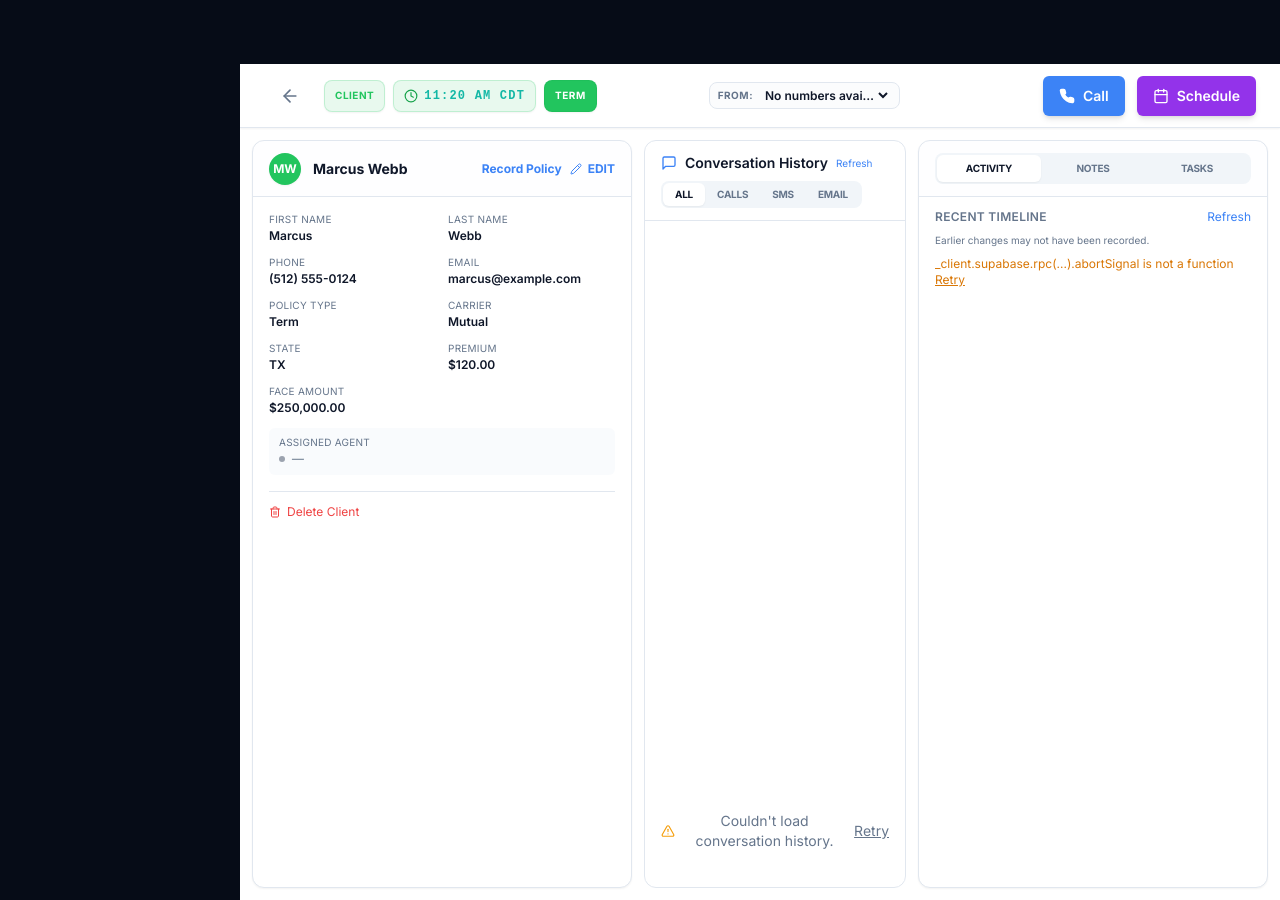
D3b — the server-returned value wins over the submitted payload › a value canonicalised on write is what the view shows and what the NEXT payload carries
The image size is (1280, 900).
Expected: the button "Call" is shown, [1043, 76, 1125, 116]
Click the button "EDIT". click: click(592, 168)
box: [570, 160, 615, 176]
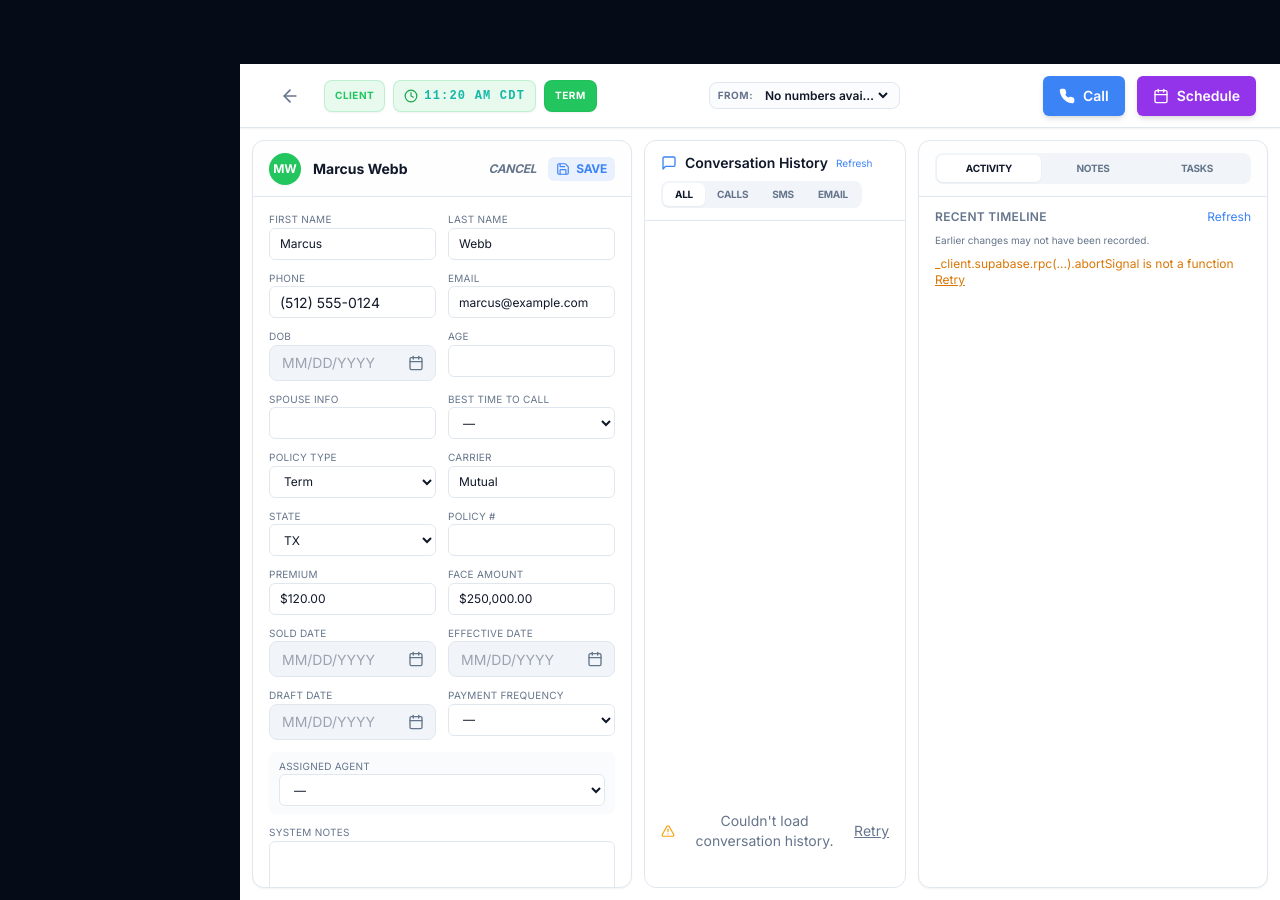
Replace the text in the field showing "Marcus" with "marcus". click: (352, 244)
box: [269, 228, 436, 260]
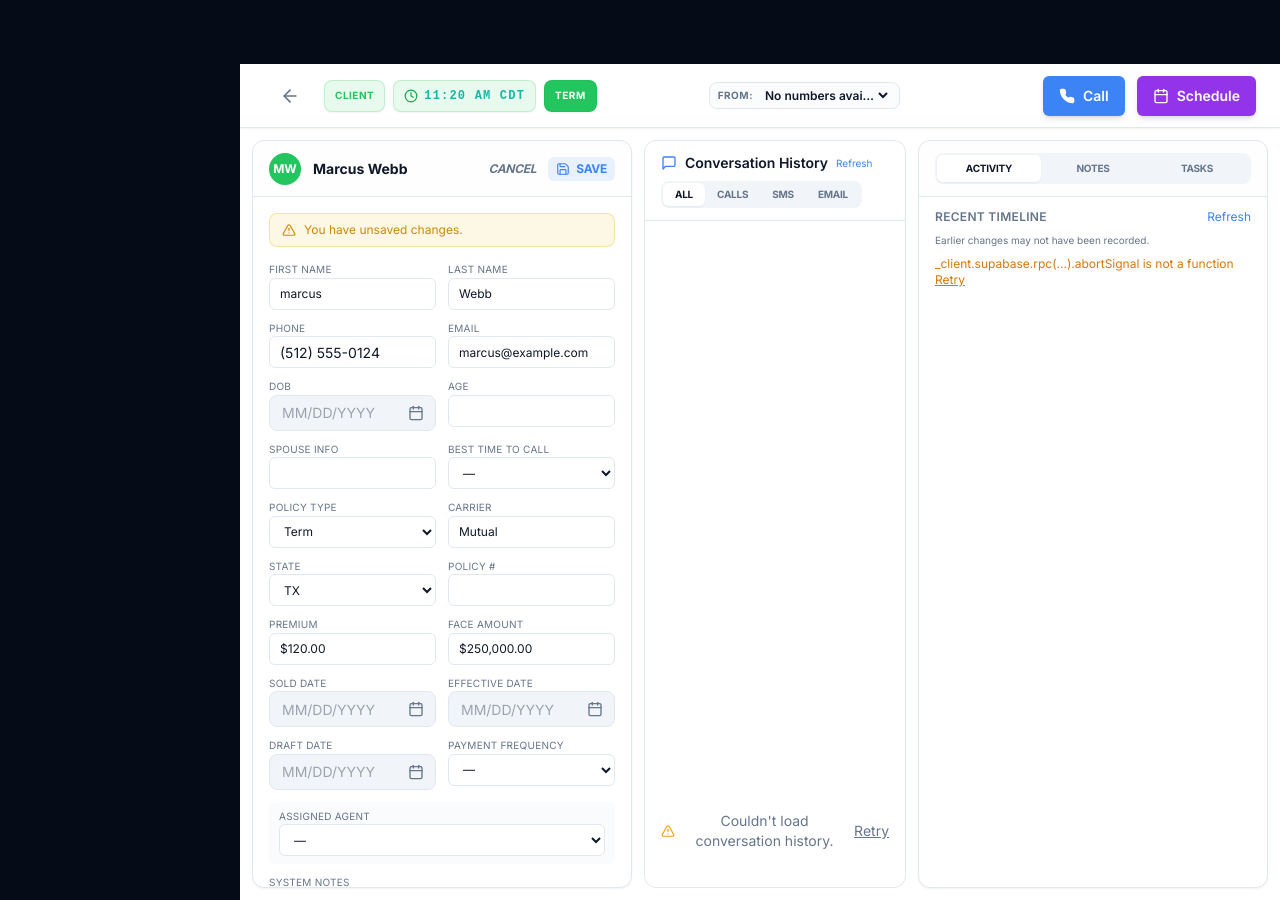
Click the button "SAVE". click: click(582, 168)
box: [548, 156, 615, 180]
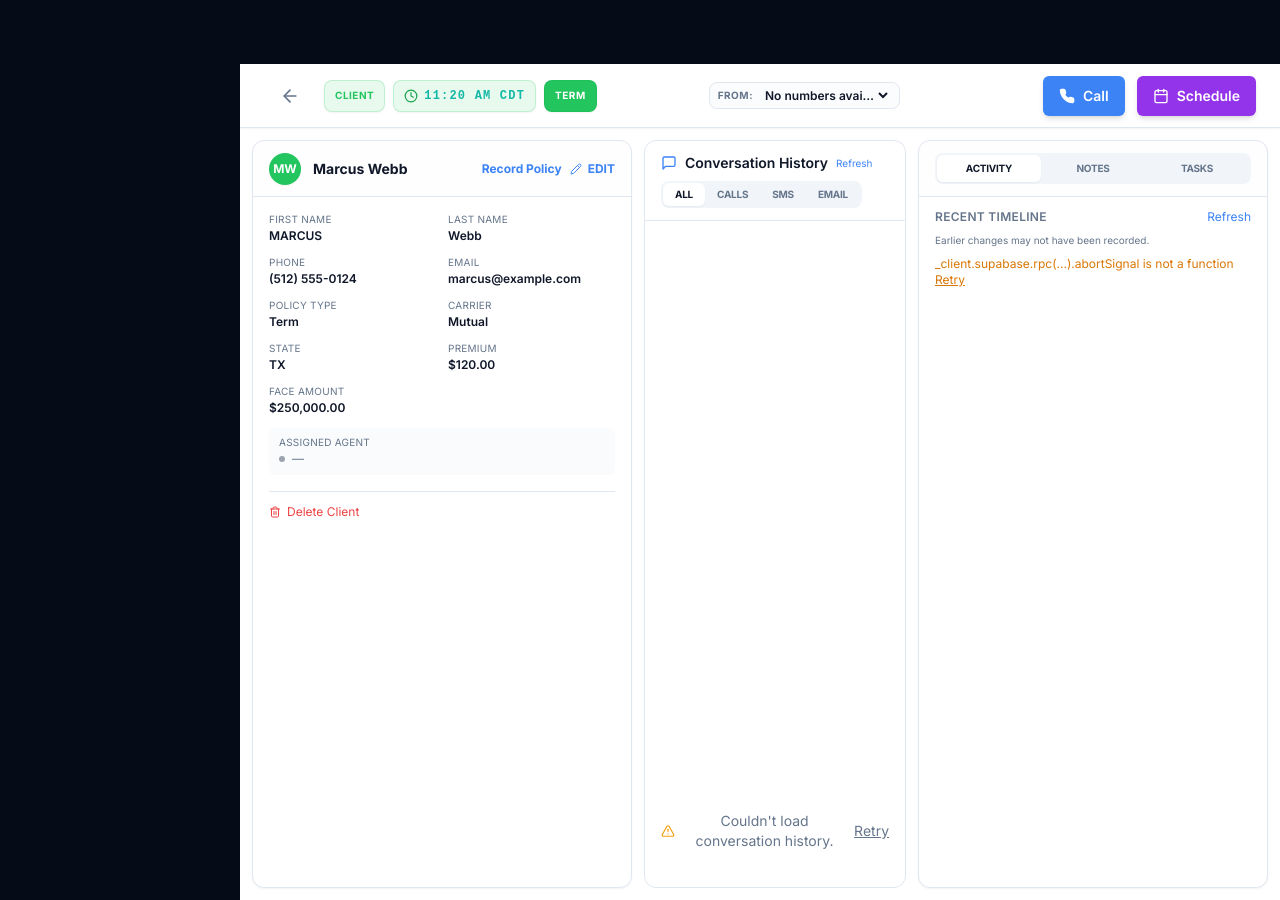
Now the text "MARCUS" is shown, box [269, 228, 322, 244]
Click the button "EDIT". click: click(592, 168)
box: [570, 160, 615, 176]
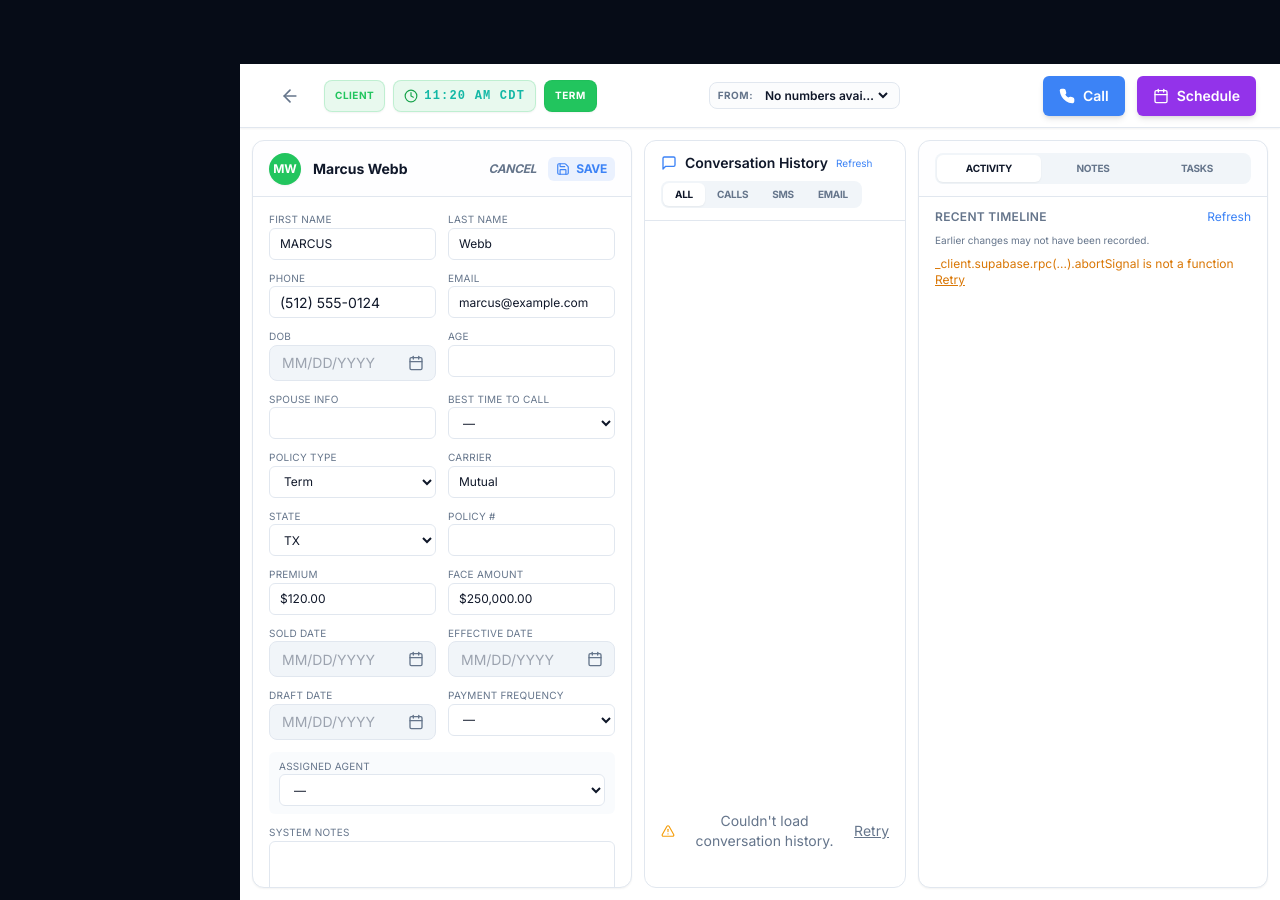
Replace the text in the field showing "marcus@example.com" with "marcus2@example.com". click: (532, 302)
box: [448, 286, 615, 318]
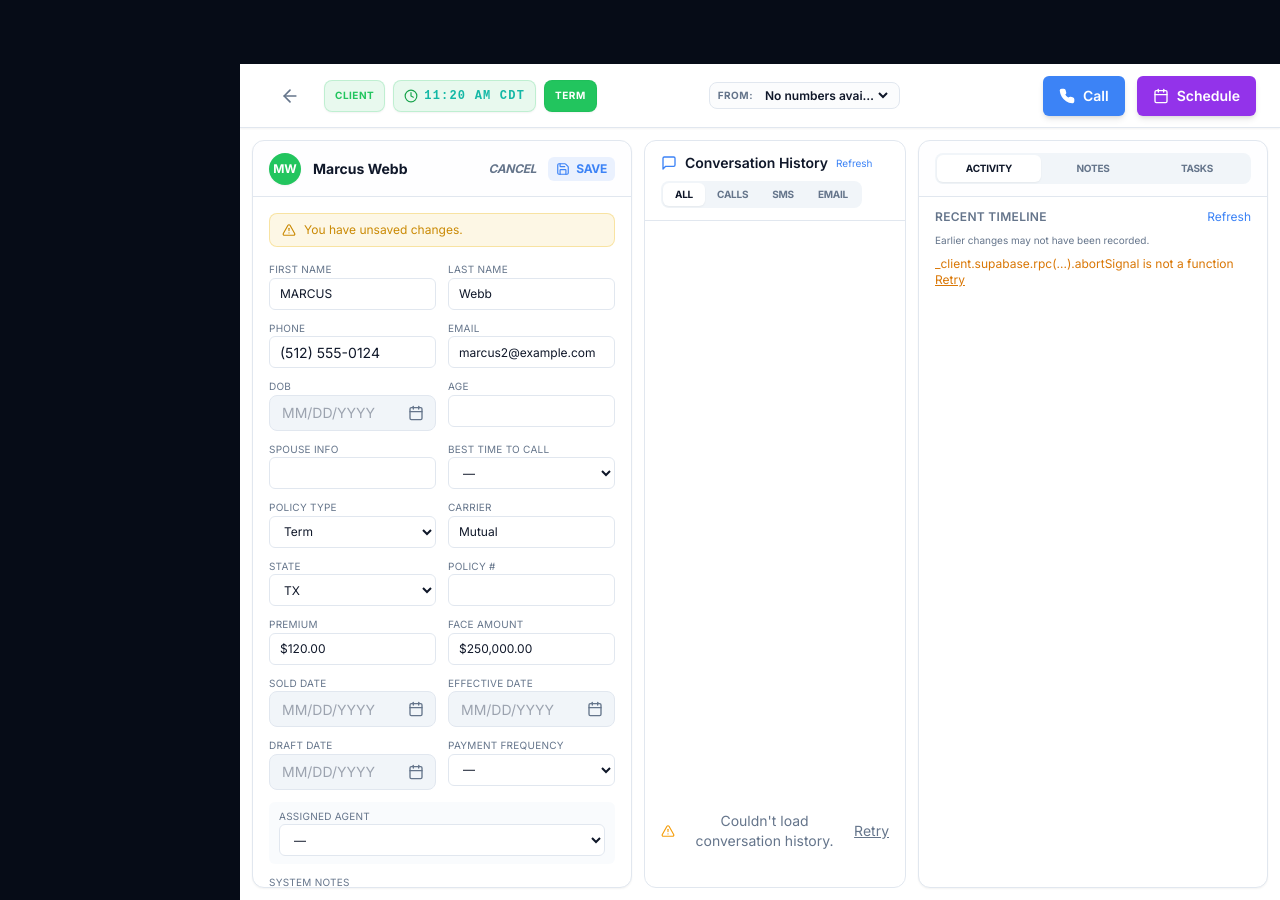
Click the button "SAVE". click: click(582, 168)
box: [548, 156, 615, 180]
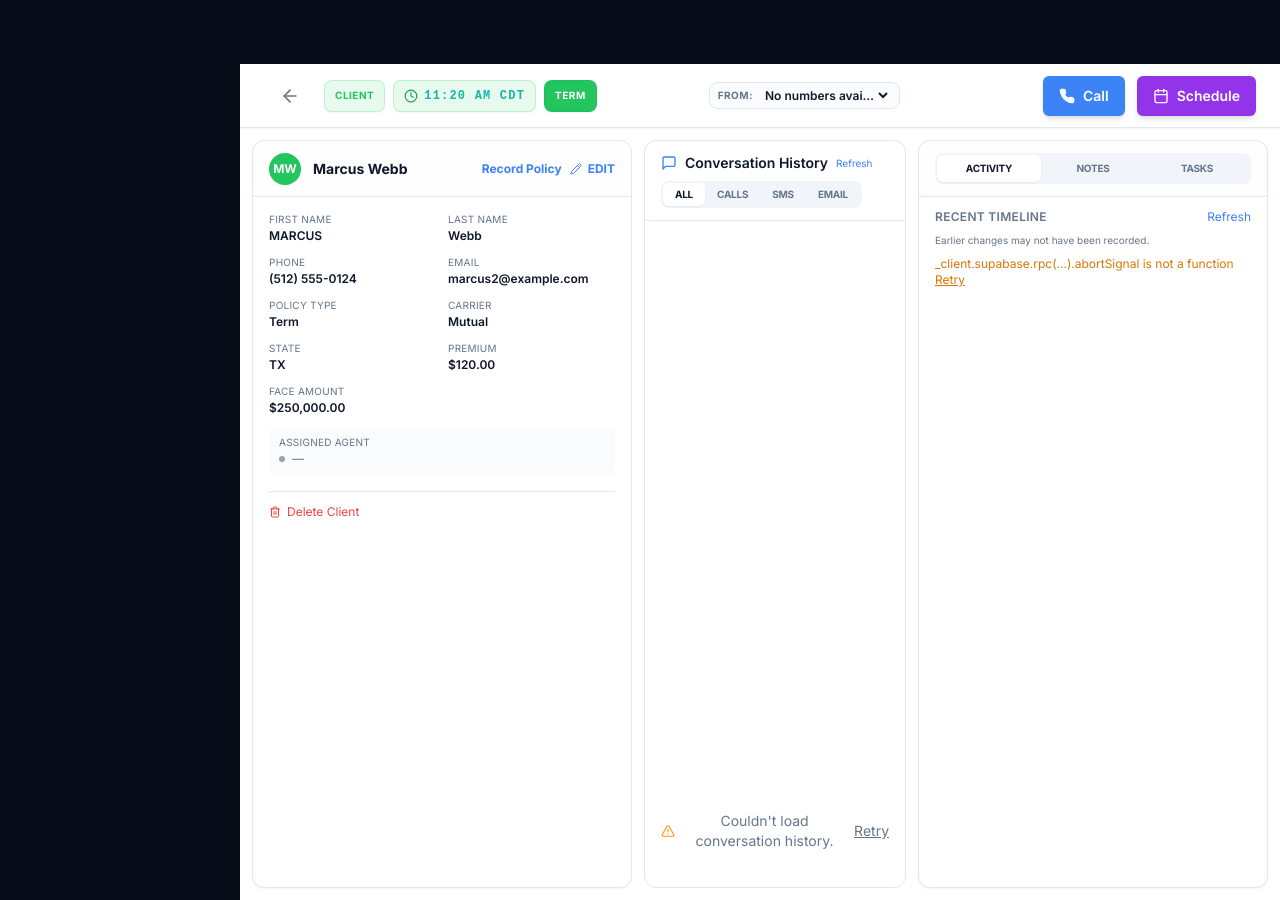
Now the text "MARCUS" is shown, box [269, 228, 322, 244]
